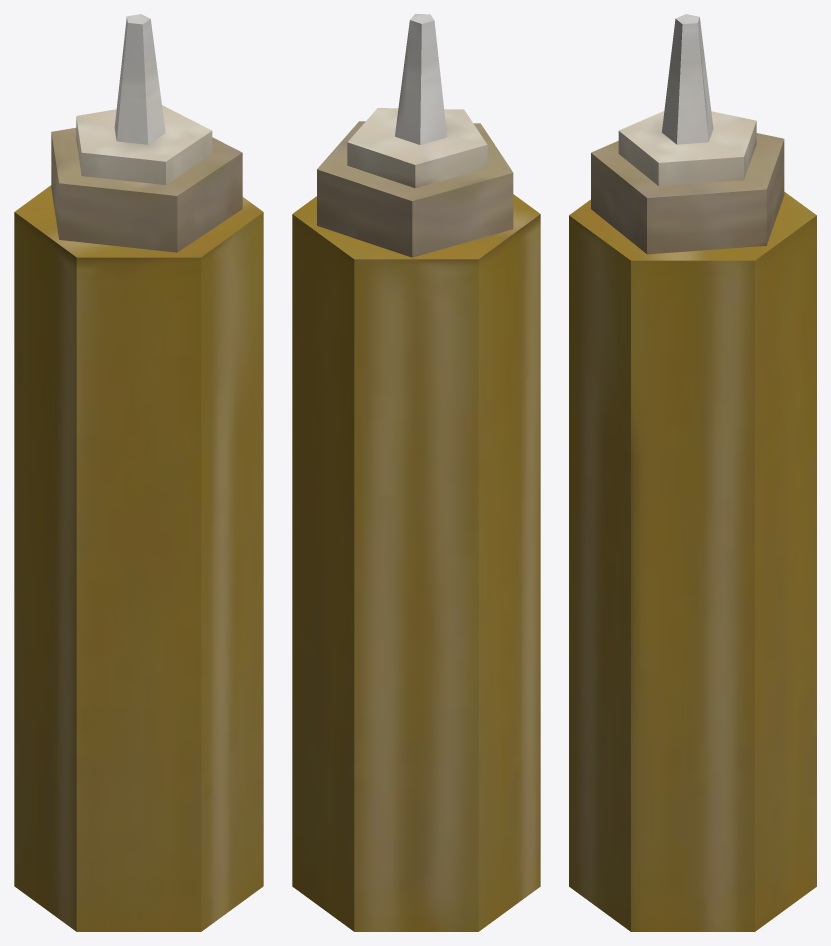
File: Mustard.dae
3 renders of one model, left to right at view 1: azimuth 30°, elevation 25°; view 2: azimuth 150°, elevation 25°; view 3: azimuth 270°, elevation 25°, orthographic.
Parts seen in each view (by area): view 1: Mustard; view 2: Mustard; view 3: Mustard.
Boxes of the visible parts, bbox=[...] form: Mustard: bbox=[14, 14, 263, 931]; Mustard: bbox=[292, 14, 540, 931]; Mustard: bbox=[569, 14, 816, 931].
Bounding box in the file's own units: 0.0645 × 0.0744 × 0.2868.
Materials: 1 (1 with a texture image).
